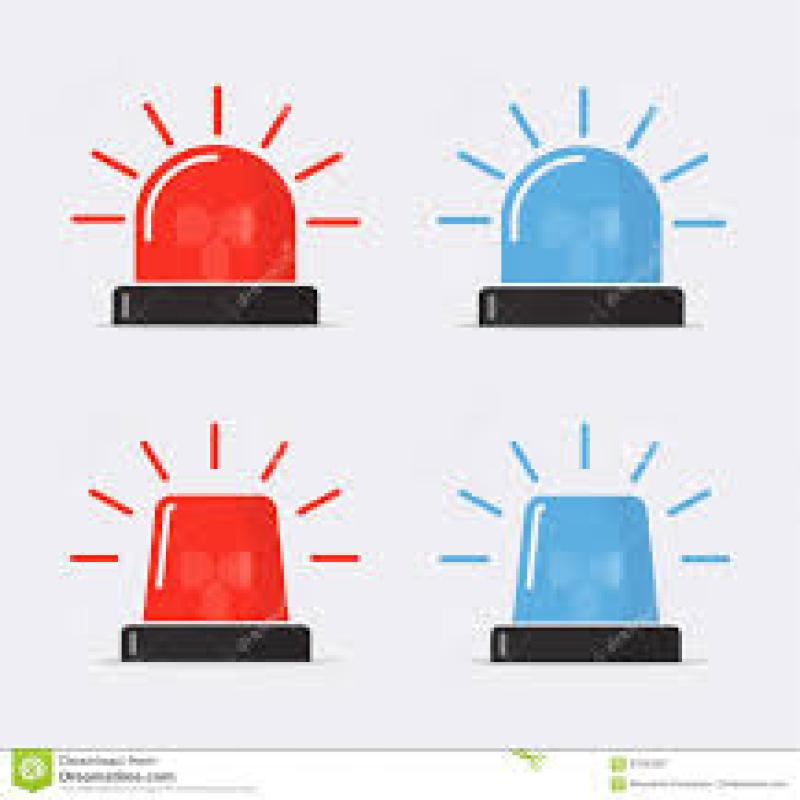AmbulanceSiren: (73, 119, 352, 362), (74, 454, 357, 691), (446, 92, 696, 336), (450, 494, 712, 670)
